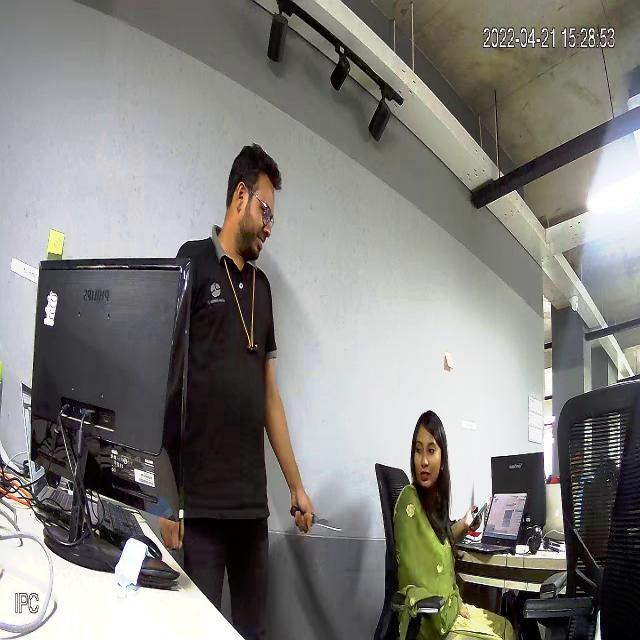Knife: (287, 490, 359, 544)
